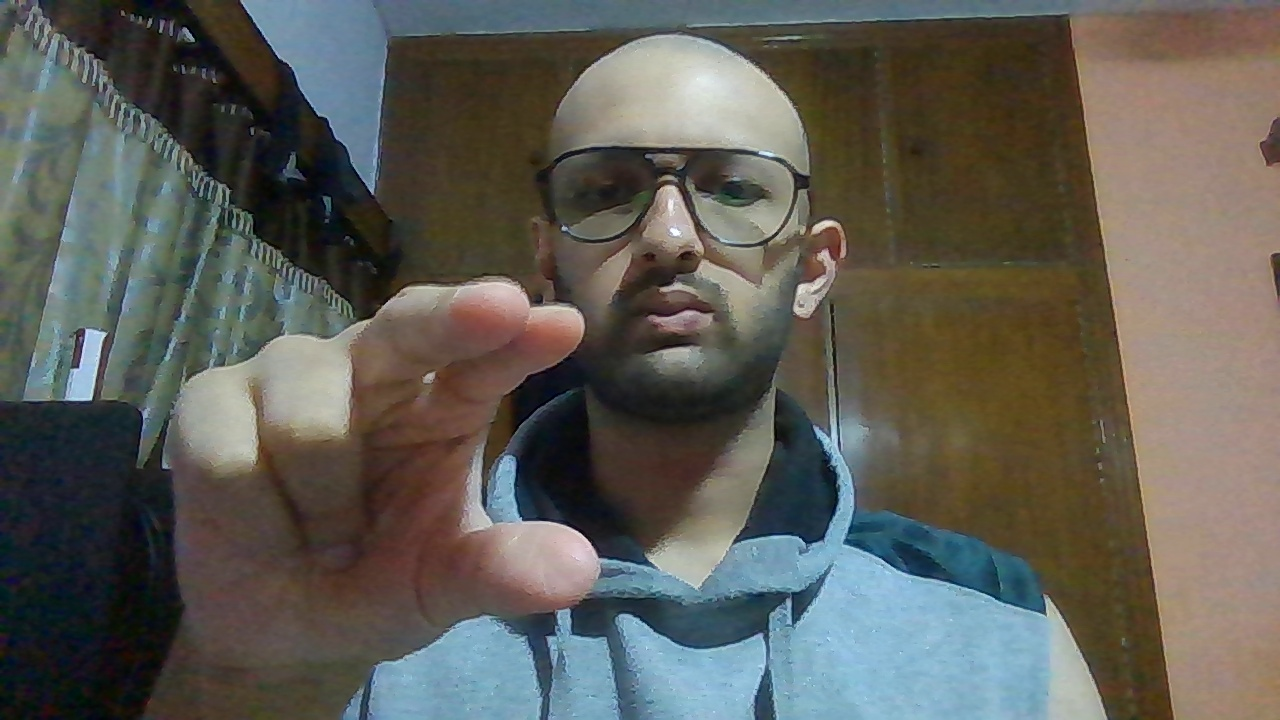No: (157, 272, 608, 651)
